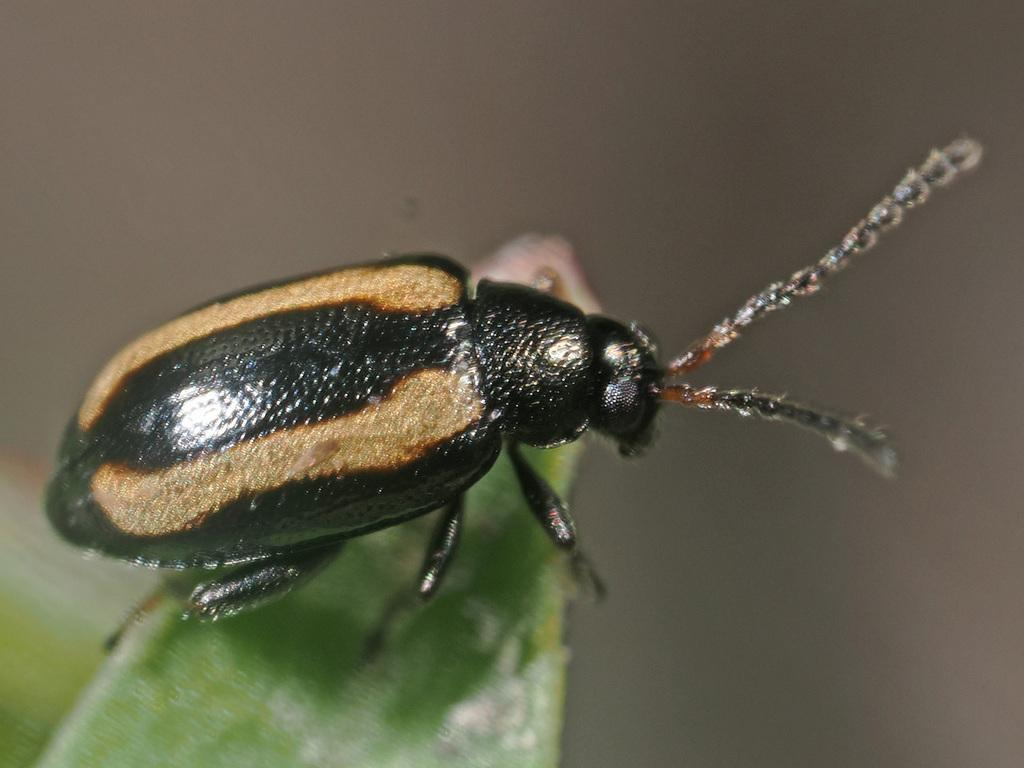flea_beetle: (28, 82, 1024, 676)
